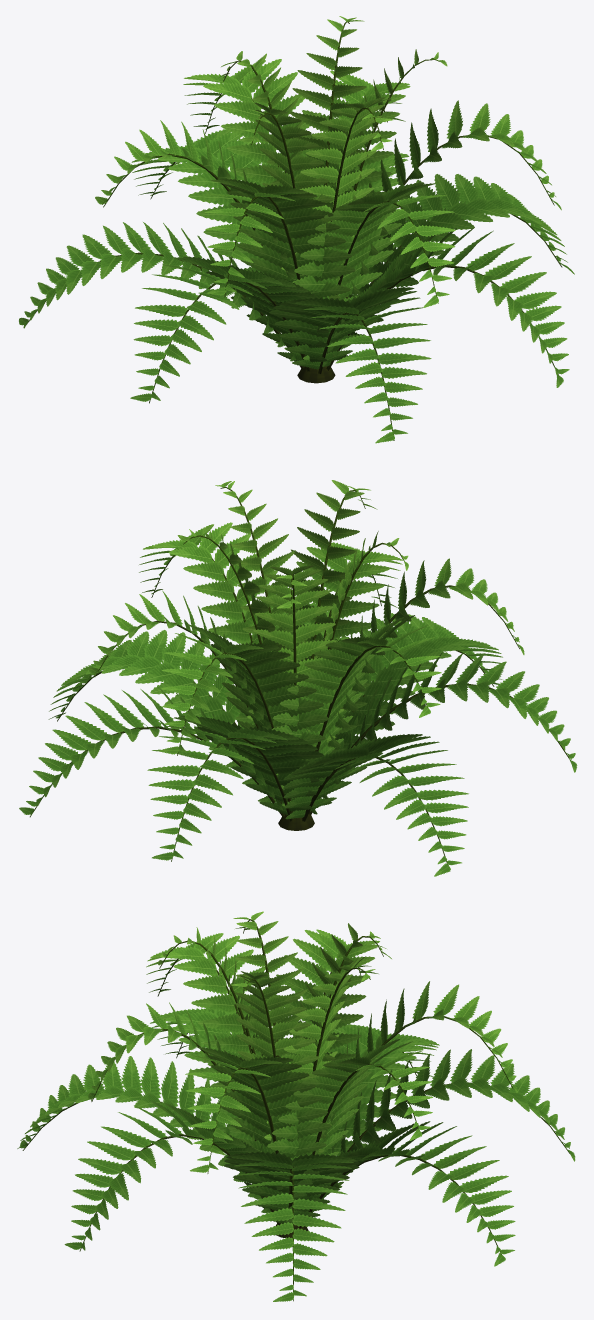
3 renders of one model, top to bottom at view 1: azimuth 30°, elevation 25°; view 2: azimuth 150°, elevation 25°; view 3: azimuth 270°, elevation 25°, orthographic. The views are drawn at different scales.
Parts seen in each view (by area): view 1: Mesh_FernFronds, Mesh_FernStems; view 2: Mesh_FernFronds, Mesh_FernStems; view 3: Mesh_FernFronds, Mesh_FernStems.
Part boxes in pixels (bbox=[...]): Mesh_FernFronds: bbox=[19, 16, 574, 443]; Mesh_FernStems: bbox=[27, 22, 562, 440]; Mesh_FernFronds: bbox=[19, 480, 577, 876]; Mesh_FernStems: bbox=[30, 487, 570, 865]; Mesh_FernFronds: bbox=[17, 911, 575, 1301]; Mesh_FernStems: bbox=[22, 919, 569, 1301].
Bounding box in the file's own units: 1.85 × 1.14 × 1.94.
Materials: 2 (2 with a texture image).
